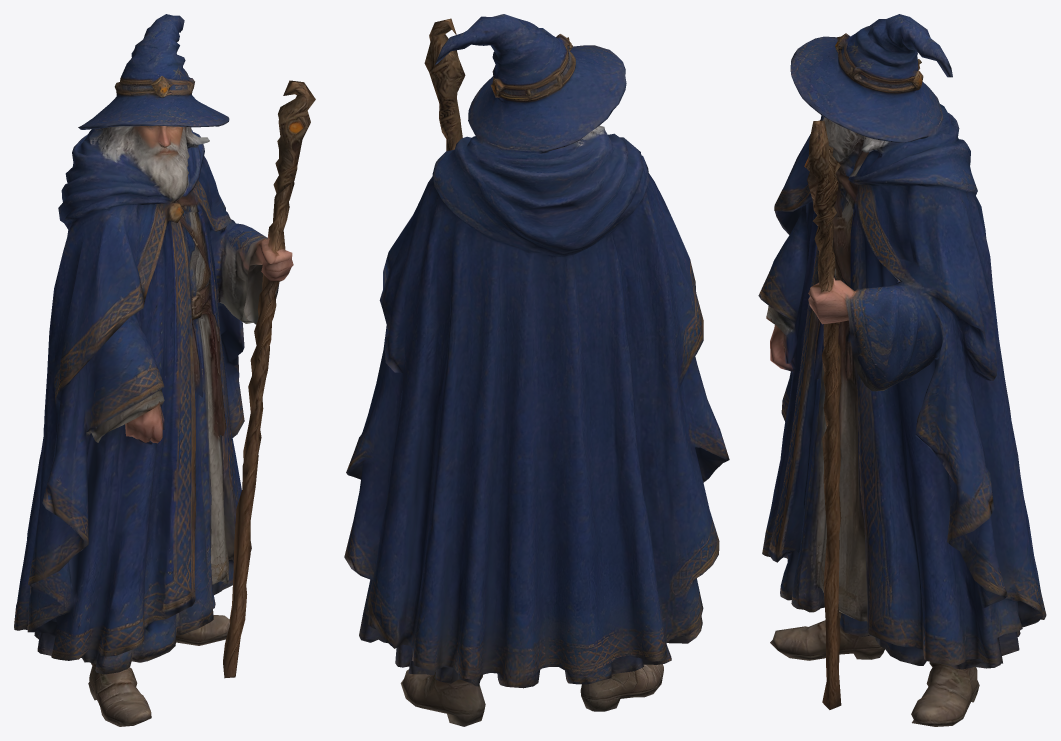
The model's file is wizard.glb.
The picture shows the model from 3 angles, left to right: view 1: azimuth 30°, elevation 25°; view 2: azimuth 150°, elevation 25°; view 3: azimuth 270°, elevation 25°; orthographic projection. The views are drawn at different scales.
Visible parts, largest first — view 1: tripo_node_4e9faaf1-3343-430e-9db3-979c9533f33b; view 2: tripo_node_4e9faaf1-3343-430e-9db3-979c9533f33b; view 3: tripo_node_4e9faaf1-3343-430e-9db3-979c9533f33b.
Part boxes in pixels (left/top/right/bottom): tripo_node_4e9faaf1-3343-430e-9db3-979c9533f33b: left=14, top=14, right=315, bottom=726; tripo_node_4e9faaf1-3343-430e-9db3-979c9533f33b: left=344, top=14, right=729, bottom=726; tripo_node_4e9faaf1-3343-430e-9db3-979c9533f33b: left=758, top=14, right=1046, bottom=726.
Bounding box in the file's own units: 0.4501 × 0.9991 × 0.3847.
1 material, 1 textured.
